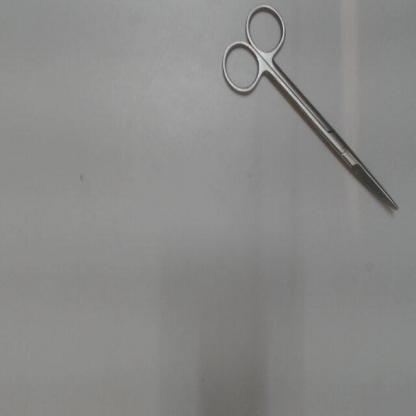Curved Mayo Scissors: (216, 1, 403, 218)
